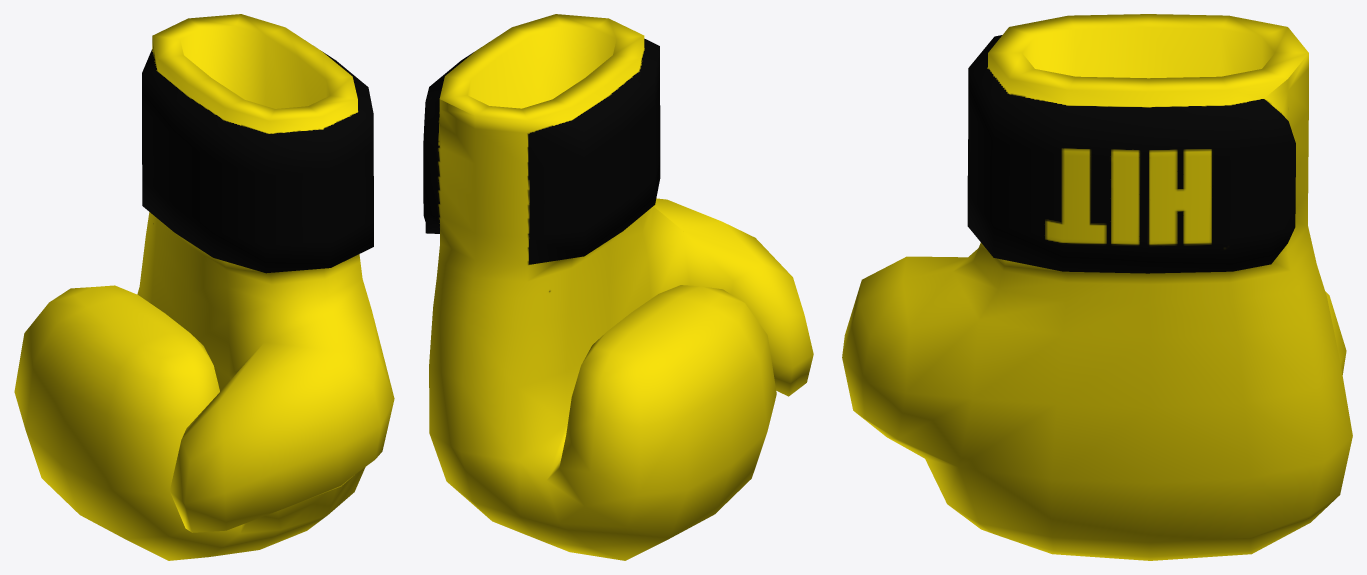
File: left.glb
3 views of the same model, side by side, from view 1: azimuth 30°, elevation 25°; view 2: azimuth 150°, elevation 25°; view 3: azimuth 270°, elevation 25° (orthographic). The views are drawn at different scales.
Visible parts, largest first — view 1: LeftGlove; view 2: LeftGlove; view 3: LeftGlove.
Boxes of the visible parts, x1=… form: LeftGlove: x1=14, y1=14, x2=394, y2=560; LeftGlove: x1=423, y1=14, x2=813, y2=560; LeftGlove: x1=842, y1=14, x2=1352, y2=560.
Bounding box in the file's own units: 0.1803 × 0.2797 × 0.2442.
1 material, 1 textured.
